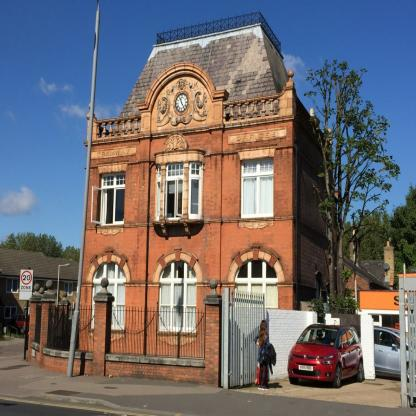Car: (286, 319, 358, 393), (377, 328, 413, 383)
